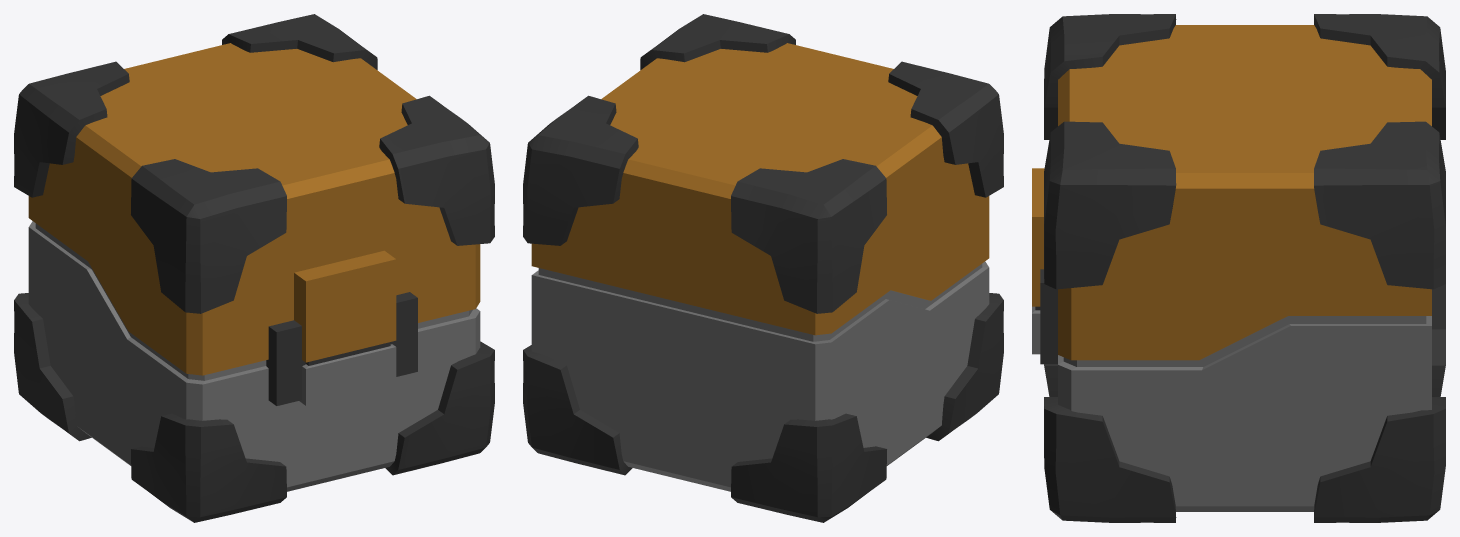
The model's file is Pickup Crate.glb.
The picture shows the model from 3 angles, left to right: view 1: azimuth 30°, elevation 25°; view 2: azimuth 150°, elevation 25°; view 3: azimuth 270°, elevation 25°; orthographic projection. The views are drawn at different scales.
Parts seen in each view (by area): view 1: Pickup_Crate; view 2: Pickup_Crate; view 3: Pickup_Crate.
Boxes of the visible parts, <box> form: Pickup_Crate: <box>14,14,494,522</box>; Pickup_Crate: <box>523,14,1003,522</box>; Pickup_Crate: <box>1032,14,1445,522</box>.
Bounding box in the file's own units: 0.8729 × 0.8576 × 0.899.
Materials: 1 (1 with a texture image).
